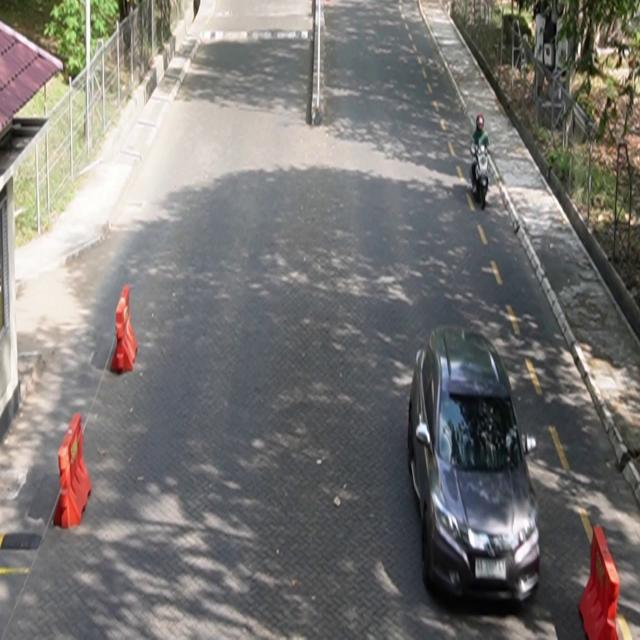car: (408, 324, 542, 606)
